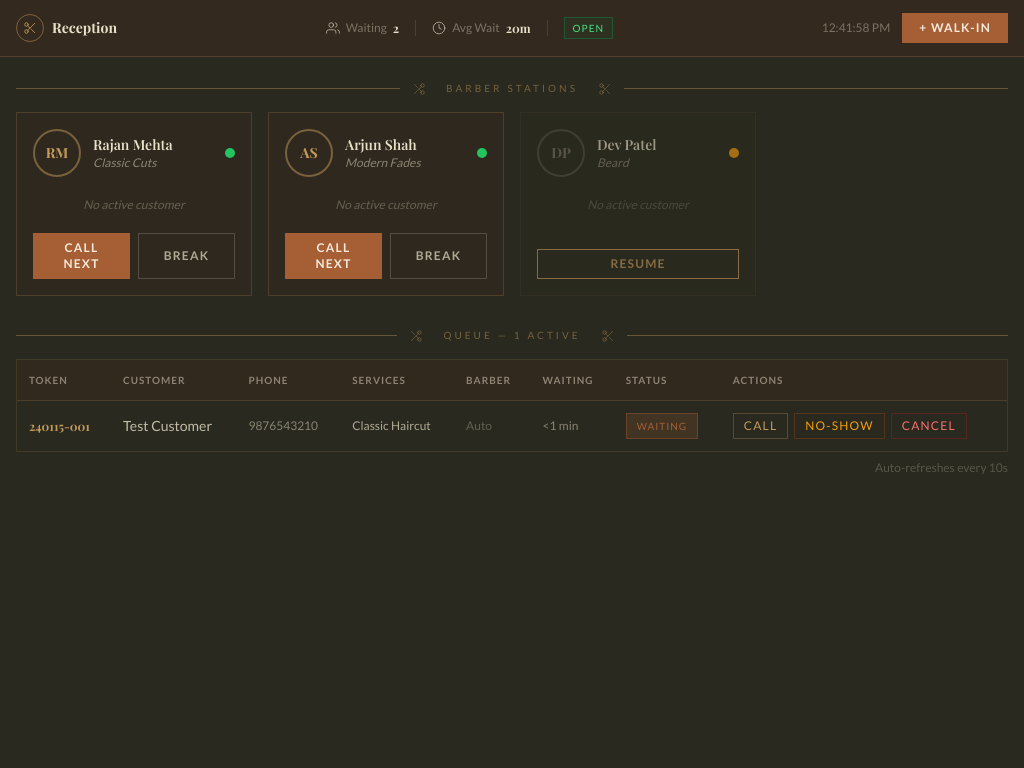
Scenario: ReceptionPage — status transitions › confirms transition and calls updateStatus
Later steps or results of the test are not shown.
Click the button with aria-label "Call 240115-001" at (761, 426), box [733,413,788,439]
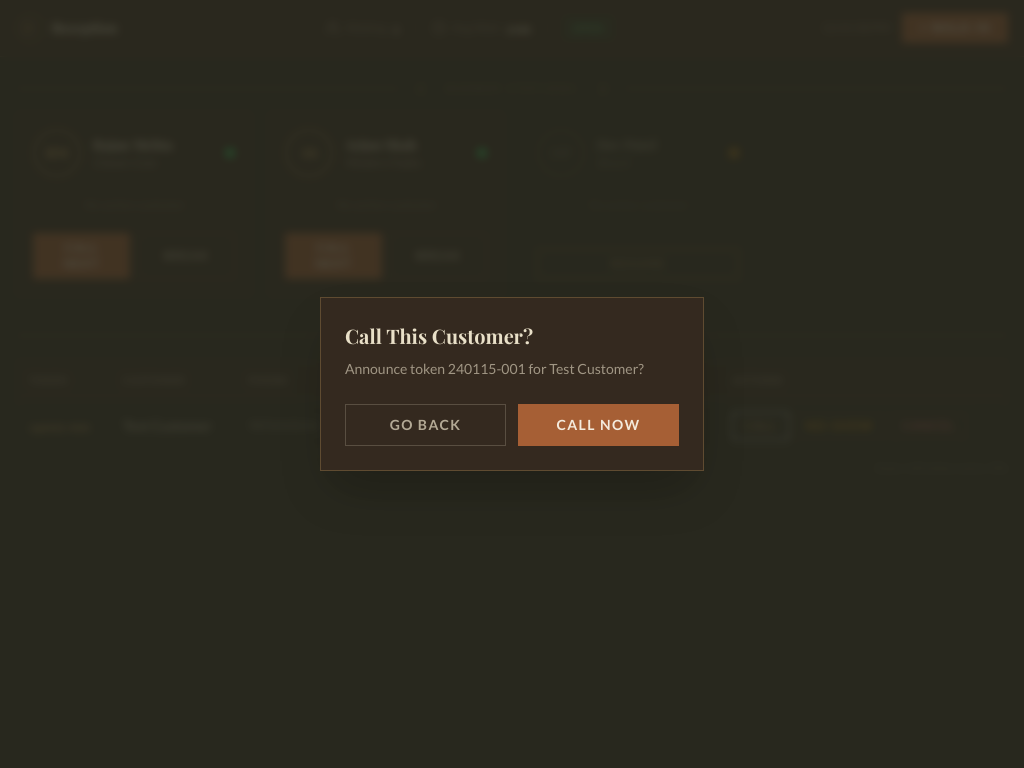
Expected: the dialog is shown
